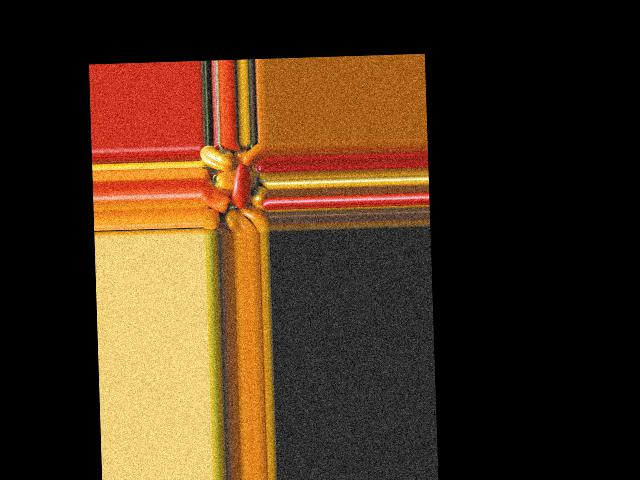bell_pepper: (201, 144, 232, 173)
